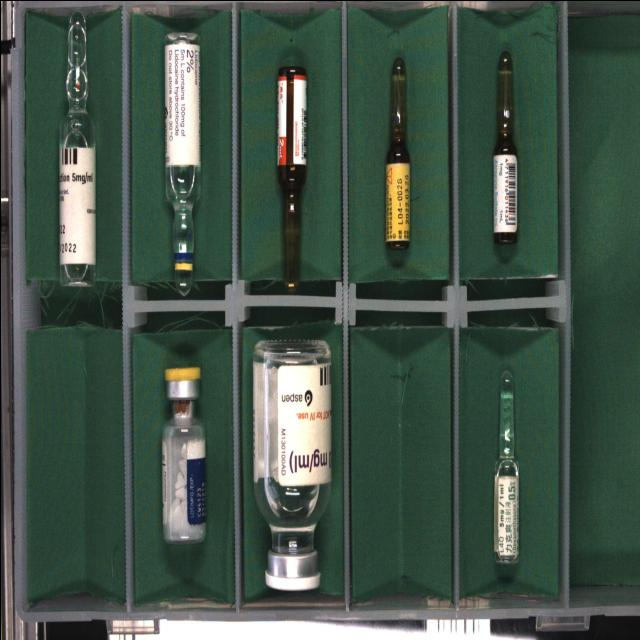Vials: (251, 338, 330, 590), (161, 366, 204, 541)
